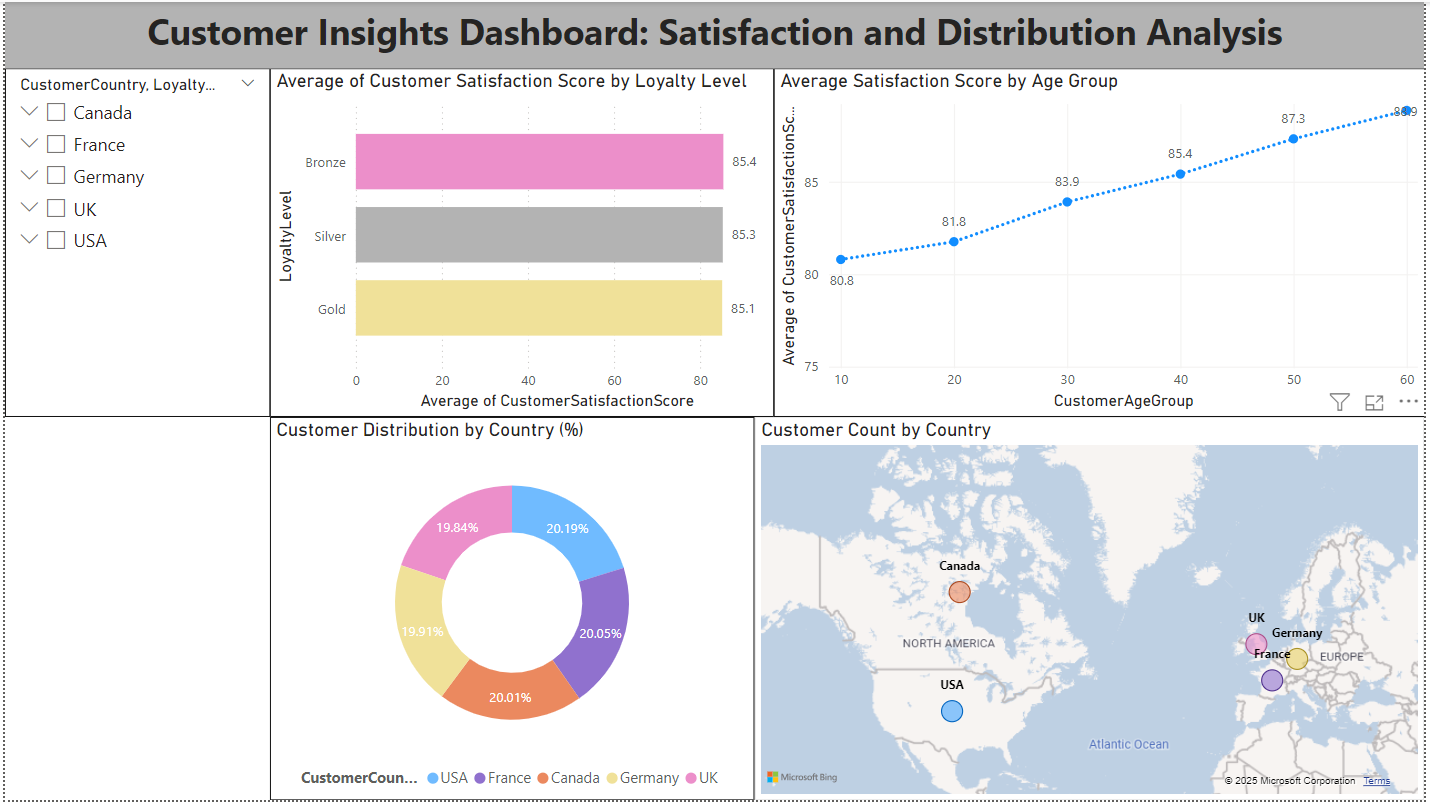

The dashboard page shown, as its layout file describes it:
{"tool":"powerbi","page":{"name":"Page 1","canvas":[1280,720],"ordinal":0},"visuals":[{"type":"clusteredBarChart","title":"Average of Customer Satisfaction Score by Loyalty Level","fields":{"Category":["customer_feedback_satisfaction.LoyaltyLevel"],"Y":["Avg(customer_feedback_satisfaction.CustomerSatisfactionScore)"]},"box":[238.6,60,454.3,300],"z":0},{"type":"donutChart","title":"Customer Distribution by Country (%)","fields":{"Category":["customer_feedback_satisfaction.CustomerCountry"],"Y":["CountNonNull(customer_feedback_satisfaction.CustomerID)"]},"box":[238.6,374.3,437.1,345.7],"z":1000},{"type":"lineChart","title":"Average Satisfaction Score by Age Group","fields":{"Category":["customer_feedback_satisfaction.CustomerAge (bins)"],"Y":["Avg(customer_feedback_satisfaction.CustomerSatisfactionScore)"]},"box":[692.9,60,587.1,314.3],"z":2000},{"type":"map","title":"Customer Count by Country","fields":{"Category":["customer_feedback_satisfaction.CustomerCountry"],"Size":["CountNonNull(customer_feedback_satisfaction.CustomerID)"]},"box":[675.7,374.3,604.3,345.7],"z":3000},{"type":"slicer","fields":{"Values":["customer_feedback_satisfaction.CustomerCountry","customer_feedback_satisfaction.LoyaltyLevel","customer_feedback_satisfaction.CustomerGender"]},"box":[0,60,238.6,295.7],"z":4000},{"type":"textbox","box":[0,0,1280,60],"z":5000}]}

Visuals, with their boxes in screenshot pixels (x1, y1, x2, y2), scaled from the page's 1280x720 canvas onto the 1430x802 screenshot:
"Average of Customer Satisfaction Score by Loyalty Level" clusteredBarChart: pyautogui.locateOnScreen(267, 67, 774, 401)
"Customer Distribution by Country (%)" donutChart: pyautogui.locateOnScreen(267, 417, 755, 801)
"Average Satisfaction Score by Age Group" lineChart: pyautogui.locateOnScreen(774, 67, 1429, 417)
"Customer Count by Country" map: pyautogui.locateOnScreen(755, 417, 1429, 801)
slicer - customer_feedback_satisfaction.CustomerCountry x customer_feedback_satisfaction.LoyaltyLevel: pyautogui.locateOnScreen(0, 67, 267, 396)
textbox: pyautogui.locateOnScreen(0, 0, 1429, 67)
